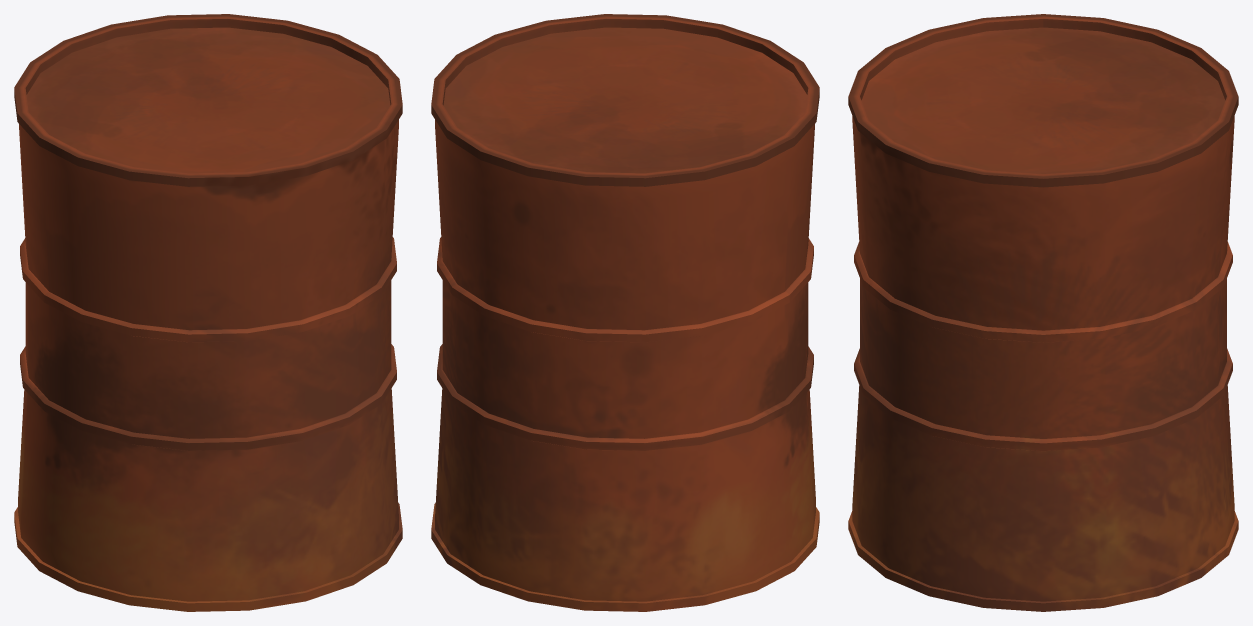
File: FBX_Toxic_Barrel.fbx
3 renders of one model, left to right at view 1: azimuth 30°, elevation 25°; view 2: azimuth 150°, elevation 25°; view 3: azimuth 270°, elevation 25°, orthographic.
Visible parts, largest first — view 1: polySurface1; view 2: polySurface1; view 3: polySurface1.
Part boxes in pixels (box(x1,y1,x2,y2)): polySurface1: box(14, 14, 402, 611); polySurface1: box(431, 14, 819, 611); polySurface1: box(848, 14, 1238, 611).
Size of the model in its own units: 10.2 by 12.5 by 10.2.
